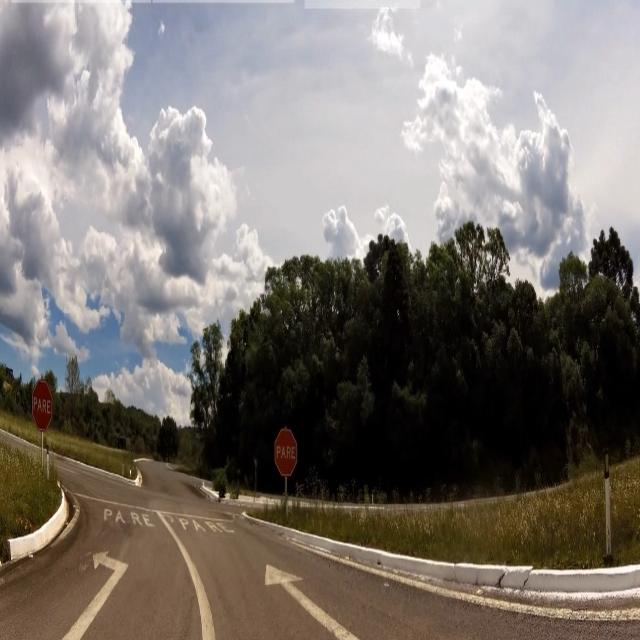R-1: (272, 427, 300, 478), (32, 376, 53, 435)
